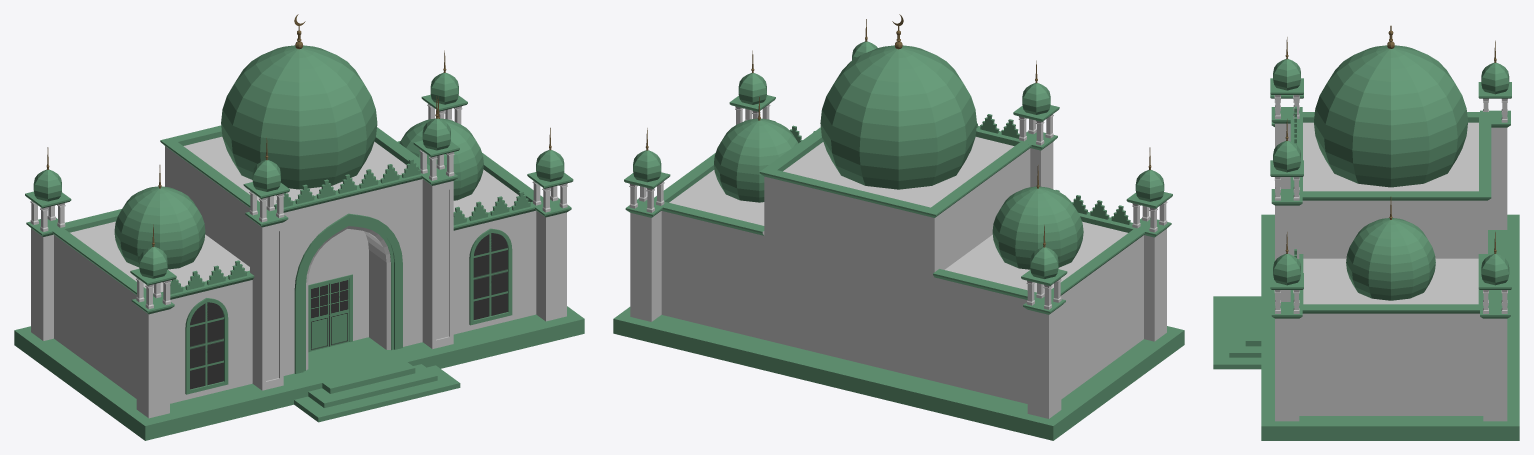
Rendered from spb-mosque.glb.
3 renders of one model, left to right at view 1: azimuth 30°, elevation 25°; view 2: azimuth 150°, elevation 25°; view 3: azimuth 270°, elevation 25°, orthographic.
Visible parts, largest first — view 1: SPB_Mosque; view 2: SPB_Mosque; view 3: SPB_Mosque.
Part boxes in pixels (x1=…): SPB_Mosque: x1=14, y1=14, x2=584, y2=440; SPB_Mosque: x1=613, y1=14, x2=1184, y2=440; SPB_Mosque: x1=1213, y1=25, x2=1519, y2=440.
Size of the model in its own units: 24.8 by 17.54 by 15.17.
Materials: 1 (1 with a texture image).
